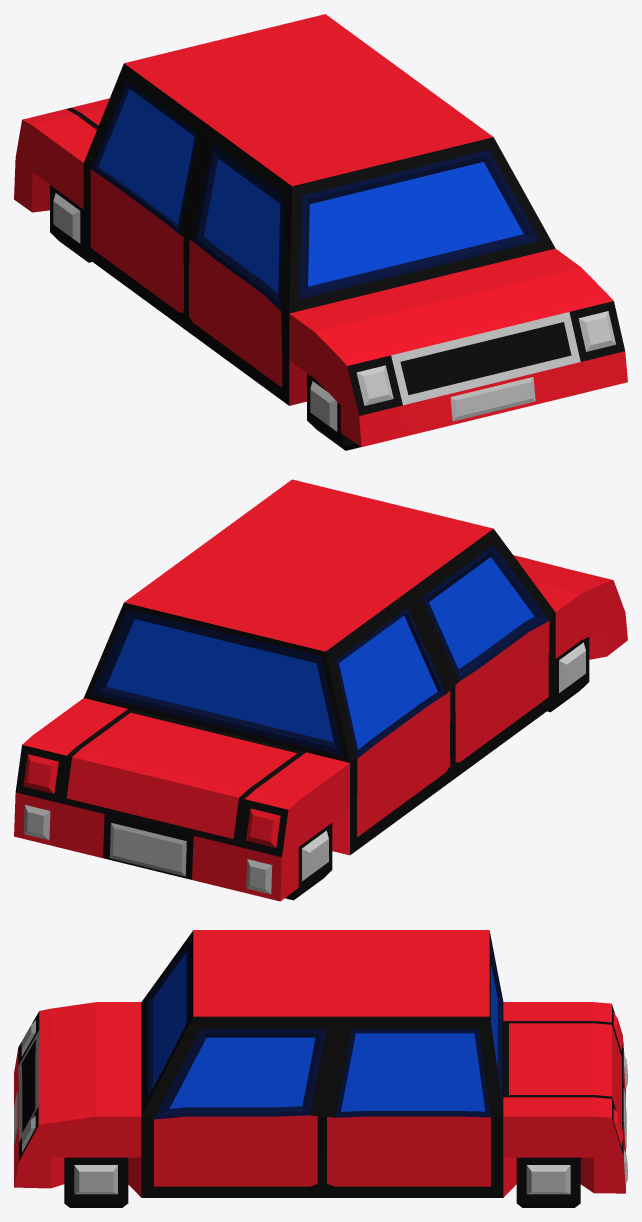
Rendered from car.FBX.
3 renders of one model, top to bottom at view 1: azimuth 30°, elevation 25°; view 2: azimuth 150°, elevation 25°; view 3: azimuth 270°, elevation 25°, orthographic. The views are drawn at different scales.
Visible parts, largest first — view 1: Car; view 2: Car; view 3: Car.
Boxes of the visible parts, bbox=[...] form: Car: bbox=[14, 14, 627, 450]; Car: bbox=[14, 479, 627, 901]; Car: bbox=[14, 930, 627, 1207].
Bounding box in the file's own units: 60.28 × 44.91 × 136.
